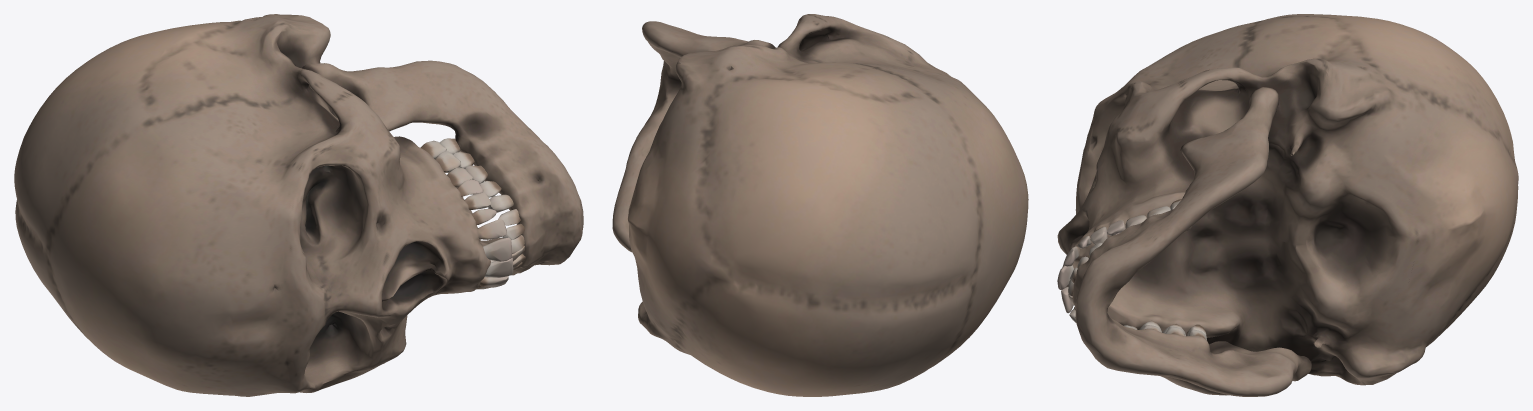
Rendered from Sans.gltf.
3 views of the same model, side by side, from view 1: azimuth 30°, elevation 25°; view 2: azimuth 150°, elevation 25°; view 3: azimuth 270°, elevation 25° (orthographic). The views are drawn at different scales.
Visible parts, largest first — view 1: Object_2; view 2: Object_2; view 3: Object_2.
Boxes of the visible parts, x1,y1,x2,y2 form: Object_2: (14,14,583,396); Object_2: (612,14,1028,396); Object_2: (1057,14,1518,396).
Bounding box in the file's own units: 1.97 × 1.39 × 1.78.
